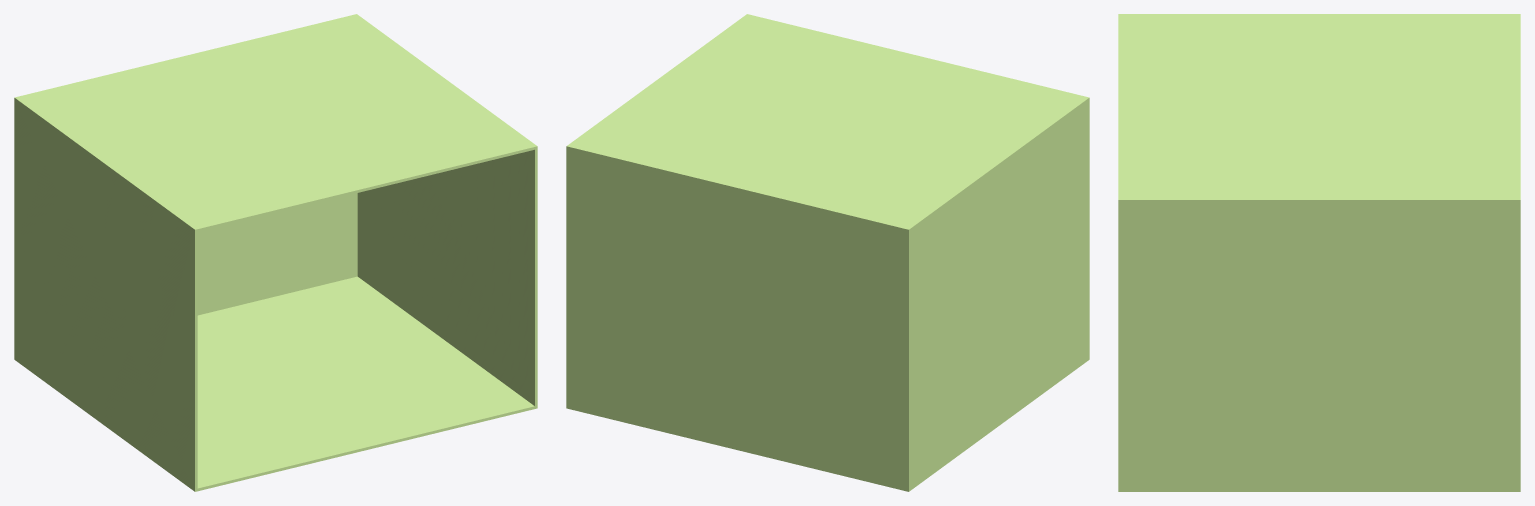
File: room.fbx
3 views of the same model, side by side, from view 1: azimuth 30°, elevation 25°; view 2: azimuth 150°, elevation 25°; view 3: azimuth 270°, elevation 25° (orthographic). The views are drawn at different scales.
Parts seen in each view (by area): view 1: Cube; view 2: Cube; view 3: Cube.
Part boxes in pixels (<box>): Cube: <box>14,14,537,491</box>; Cube: <box>566,14,1089,491</box>; Cube: <box>1118,14,1520,491</box>.
Size of the model in its own units: 20651 by 15108 by 18875.
